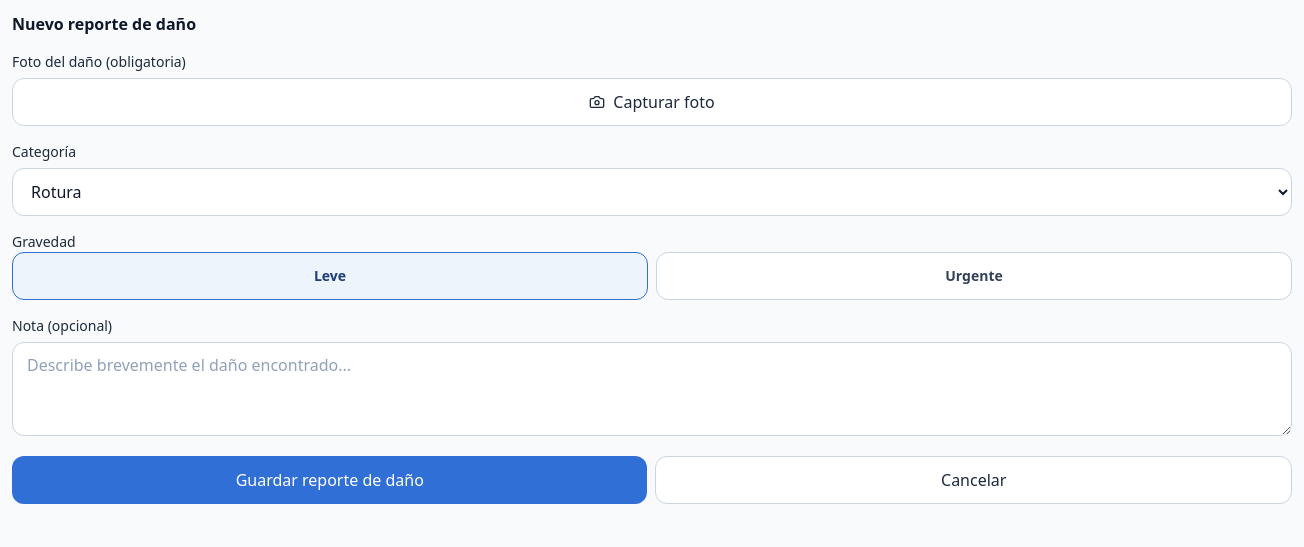
it: FormularioDano › exige capturar una fotografía antes de guardar y no usa input file
The width and height of the screenshot is (1304, 547).
Click the button "Guardar reporte de daño": x=330, y=480 [12, 456, 648, 504]
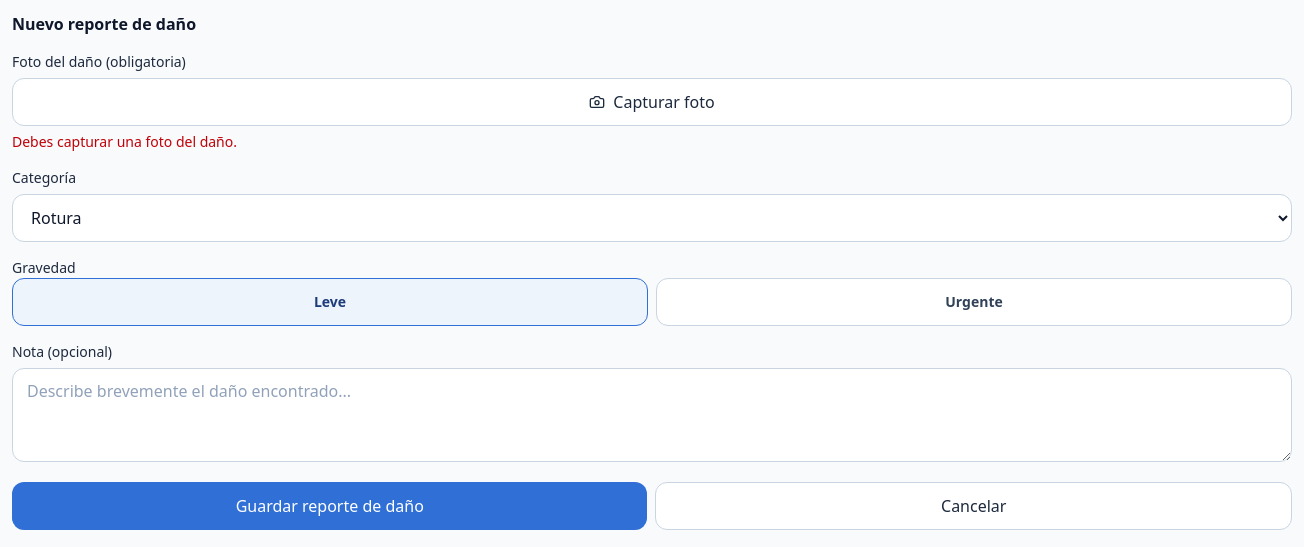
Expected: the message reads "Debes capturar una foto del daño.", [12, 132, 237, 151]
